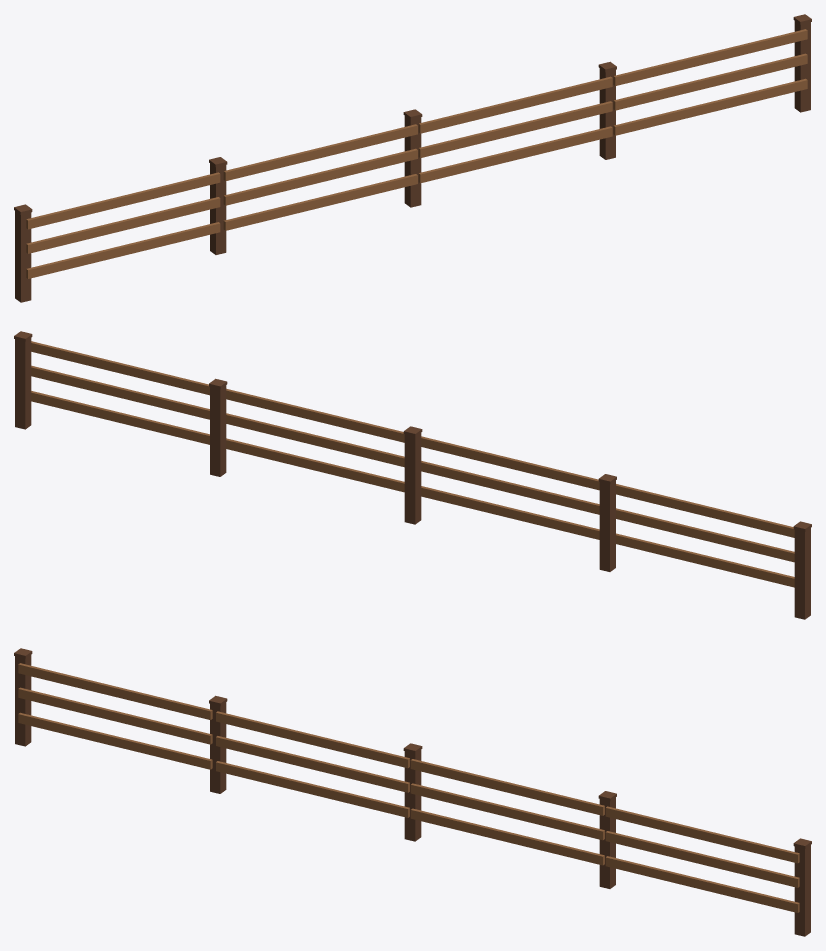
Rendered from cerca-rural.glb.
The picture shows the model from 3 angles, top to bottom: view 1: azimuth 30°, elevation 25°; view 2: azimuth 150°, elevation 25°; view 3: azimuth 330°, elevation 25°; orthographic projection.
Visible parts, largest first — view 1: Tabuas, Postes; view 2: Tabuas, Postes; view 3: Tabuas, Postes.
Boxes of the visible parts, left/top/right/bottom form: Tabuas: left=26, top=29, right=807, bottom=278; Postes: left=14, top=14, right=811, bottom=302; Tabuas: left=31, top=341, right=794, bottom=587; Postes: left=14, top=331, right=811, bottom=619; Tabuas: left=18, top=663, right=799, bottom=912; Postes: left=14, top=648, right=811, bottom=936.
Size of the model in its own units: 12.18 by 1.34 by 0.22.
